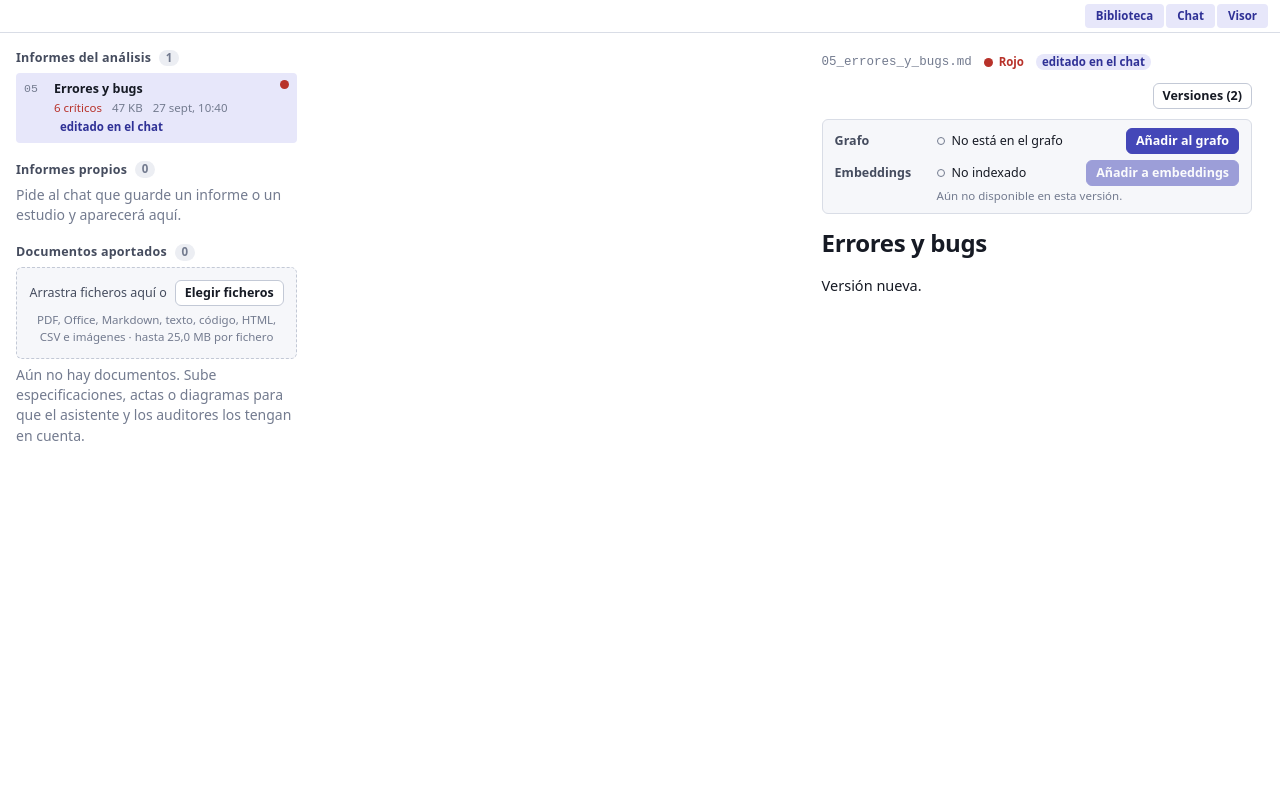
Test: AssistantTab › V2-B: «Versiones» lista el historial, «Ver» muestra la vista previa y «Restaurar» la convierte en la actual
This screenshot has width=1280, height=800.
Expected: the text "Versión nueva." is shown, [822,275,922,295]
Click the button "Versiones (2)" at (1202, 96), box [1153,83,1252,109]
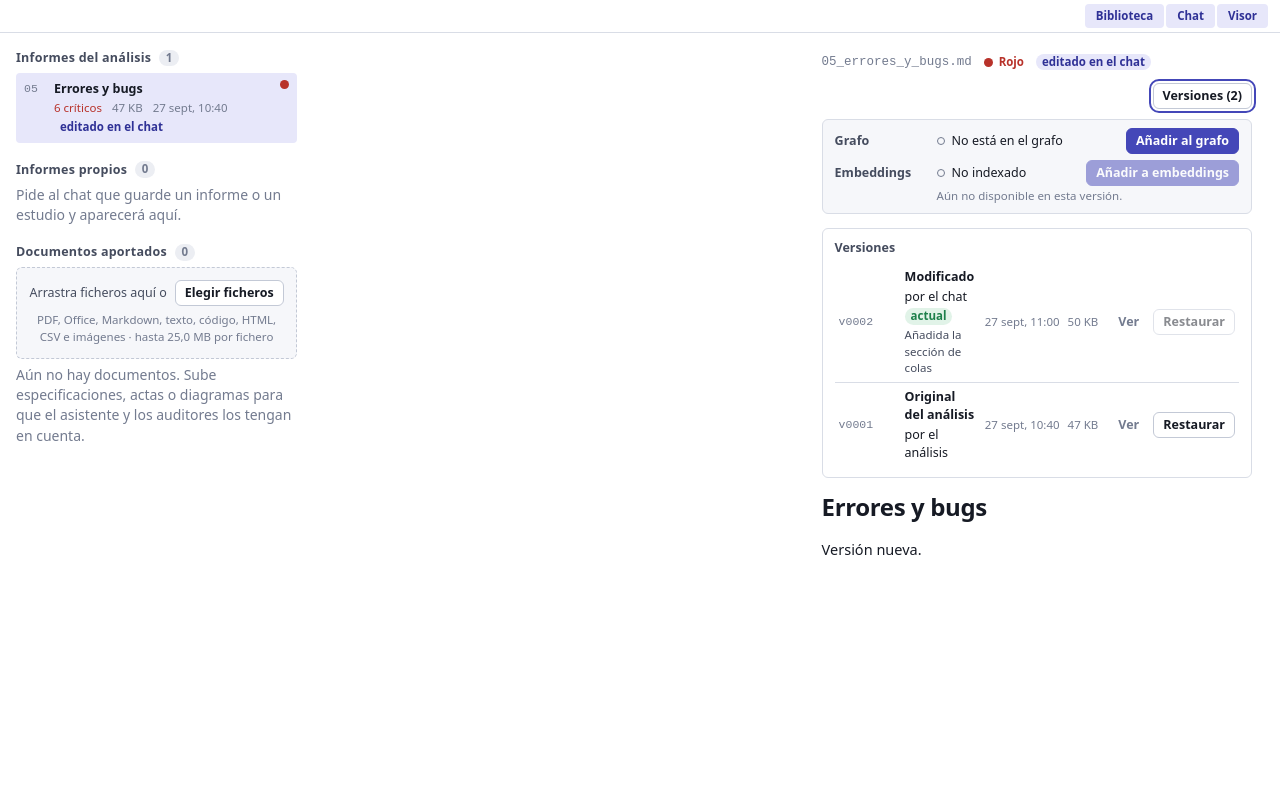
Expected: the list item that starts with "v0002" shows "Modificado por el chat", [835,263,1239,382]
Expected: the list item that starts with "v0002" shows "actual", [911,308,946,323]
Expected: the button "Restaurar" in the row of "v0002" is disabled, [1153,309,1235,335]
Click the button "Ver" in the row of "v0001" at (1129, 425), box [1108,412,1149,438]
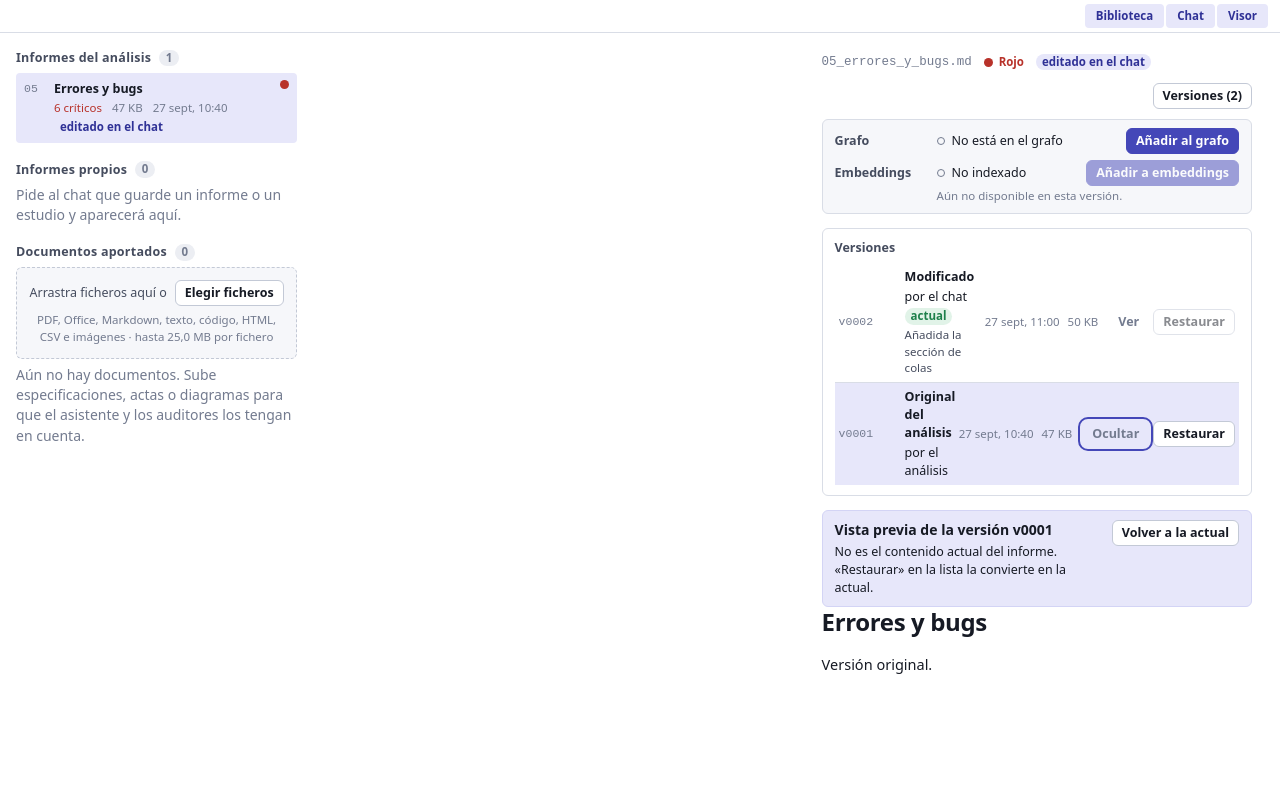
Expected: the text "Vista previa de la versión v0001" is shown, [835,520,1053,540]
Expected: the text "Versión original." is shown, [822,654,932,674]
Click the button "Restaurar" below "Original del análisis" at (1194, 434), box [1153,421,1235,447]
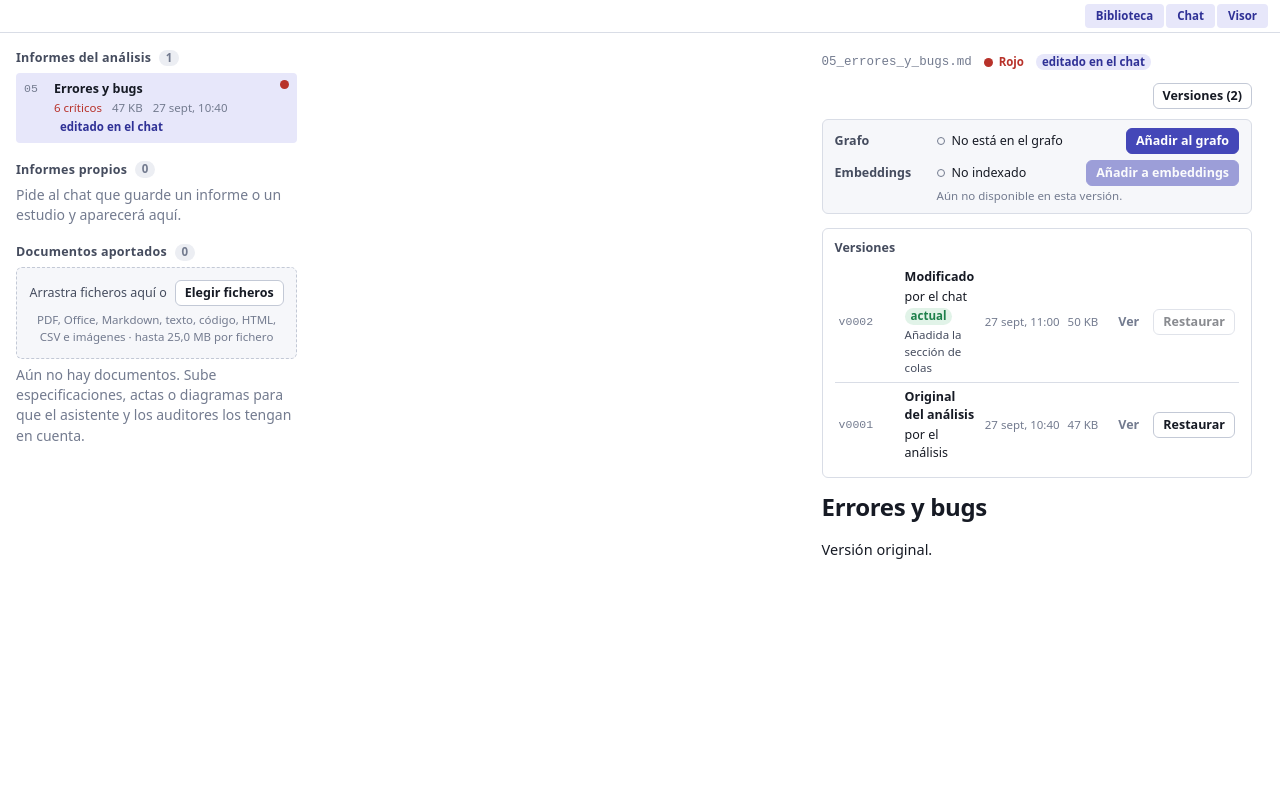
Expected: the text "Versión original." is shown, [822,539,932,559]
Expected: the text "Vista previa de la versión v0001" is gone
